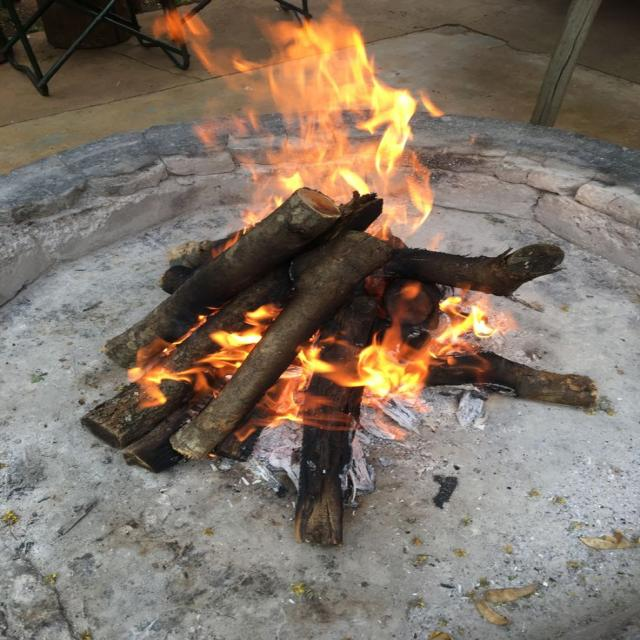fire: (157, 8, 443, 240), (129, 287, 512, 439)
